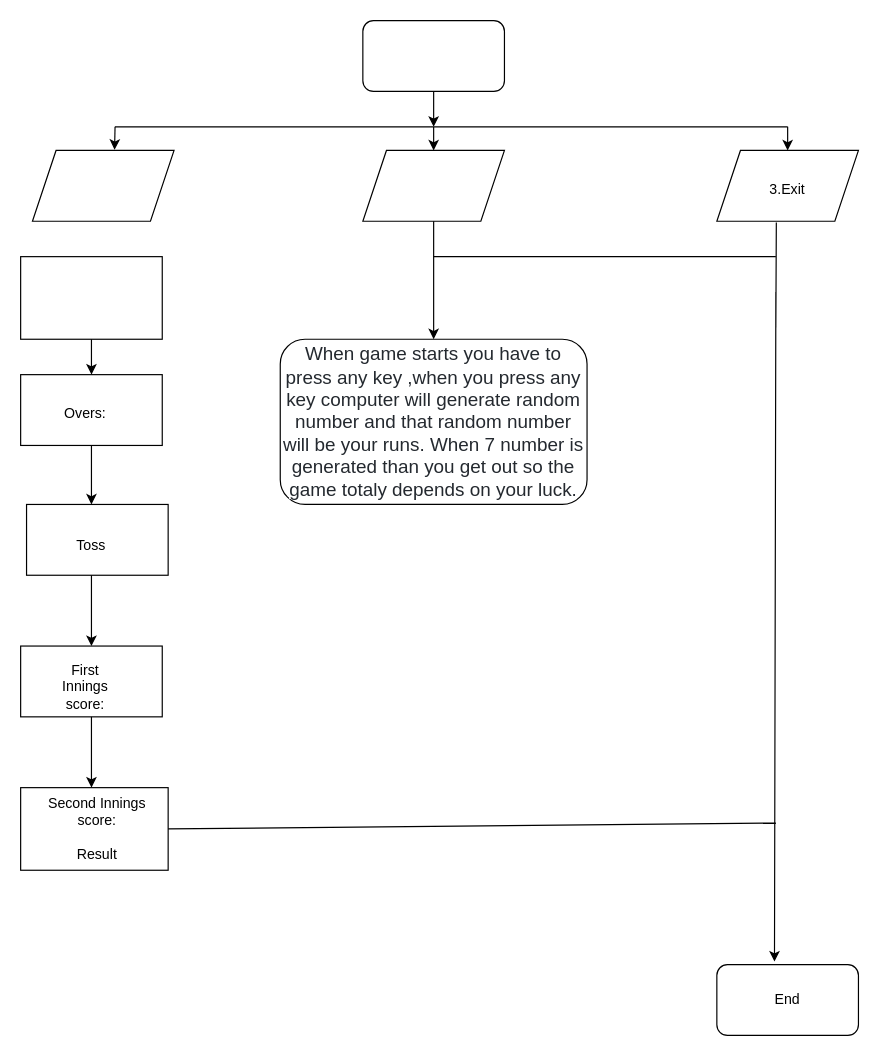
This 879x1056 diagram has some shape labels left out. The centre of each missing label's shape, as x and y in pixels:
"1.Start" belongs at point 102,185.
"2.Instructions" belongs at point 433,185.
"Enter Team1: Enter Team2:" belongs at point 90,297.
"IPL 2022" belongs at point 433,55.
